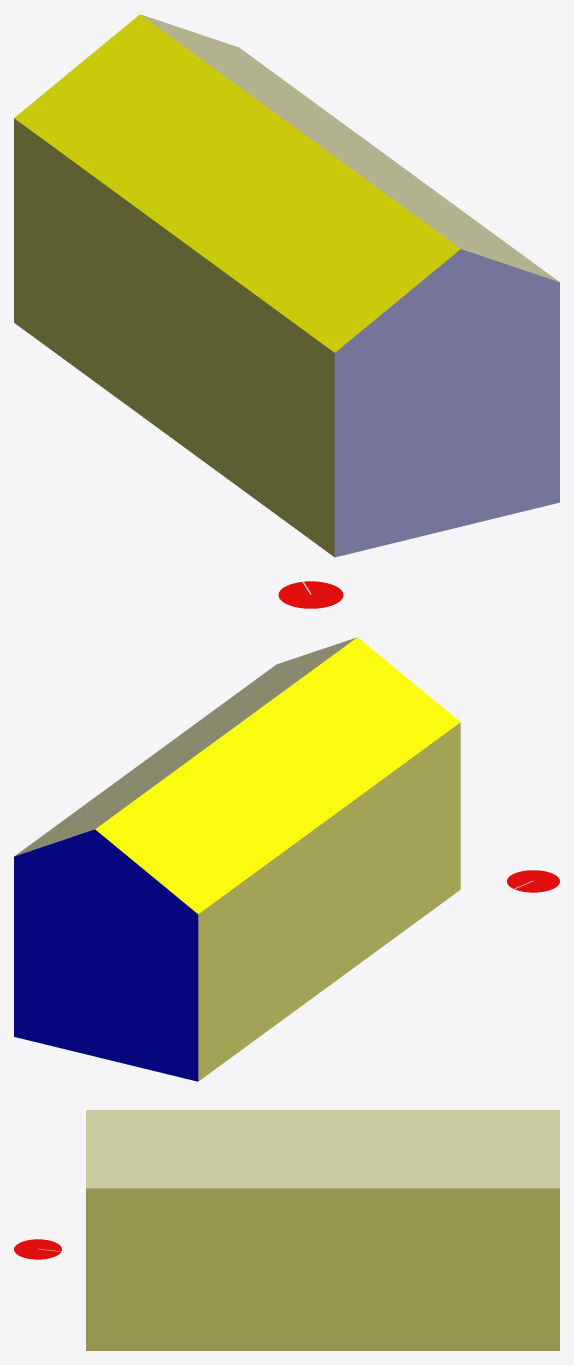
Rendered from result.glb.
3 renders of one model, top to bottom at view 1: azimuth 30°, elevation 25°; view 2: azimuth 150°, elevation 25°; view 3: azimuth 270°, elevation 25°, orthographic. The views are drawn at different scales.
Parts seen in each view (by area): view 1: 67285aa0-36d2-499b-9a6f-4d9abeb2e2a8__undefined, 37701b20-003e-404a-a415-a2c813a16f1e__undefined, baf17bdc-a2c3-47cc-ba9c-393101f50377__undefined, 28bcee30-6227-4a1a-99fa-7bcde78ccde8__undefined, 83626ceb-d9ab-4943-931e-0092c7efe203__Circle; view 2: 67285aa0-36d2-499b-9a6f-4d9abeb2e2a8__undefined, 37701b20-003e-404a-a415-a2c813a16f1e__undefined, 494e9c28-957b-42e2-ab2a-aaff7eb456db__undefined, 28bcee30-6227-4a1a-99fa-7bcde78ccde8__undefined, 83626ceb-d9ab-4943-931e-0092c7efe203__Circle; view 3: e5031419-7cdf-4cb9-a8c1-ace40adb9edf__undefined, 28bcee30-6227-4a1a-99fa-7bcde78ccde8__undefined, 83626ceb-d9ab-4943-931e-0092c7efe203__Circle.
Part boxes in pixels (x1,y1,x2,y2): 67285aa0-36d2-499b-9a6f-4d9abeb2e2a8__undefined: (14, 118, 334, 556); 37701b20-003e-404a-a415-a2c813a16f1e__undefined: (14, 14, 460, 352); baf17bdc-a2c3-47cc-ba9c-393101f50377__undefined: (334, 249, 559, 557); 28bcee30-6227-4a1a-99fa-7bcde78ccde8__undefined: (141, 14, 558, 281); 83626ceb-d9ab-4943-931e-0092c7efe203__Circle: (278, 581, 343, 608); 67285aa0-36d2-499b-9a6f-4d9abeb2e2a8__undefined: (198, 722, 460, 1081); 37701b20-003e-404a-a415-a2c813a16f1e__undefined: (95, 637, 460, 914); 494e9c28-957b-42e2-ab2a-aaff7eb456db__undefined: (14, 829, 198, 1081); 28bcee30-6227-4a1a-99fa-7bcde78ccde8__undefined: (14, 637, 356, 856); 83626ceb-d9ab-4943-931e-0092c7efe203__Circle: (507, 870, 559, 892); e5031419-7cdf-4cb9-a8c1-ace40adb9edf__undefined: (86, 1188, 559, 1350); 28bcee30-6227-4a1a-99fa-7bcde78ccde8__undefined: (86, 1110, 559, 1188); 83626ceb-d9ab-4943-931e-0092c7efe203__Circle: (14, 1239, 61, 1259).
Size of the model in its own units: 550 by 471 by 1137.
